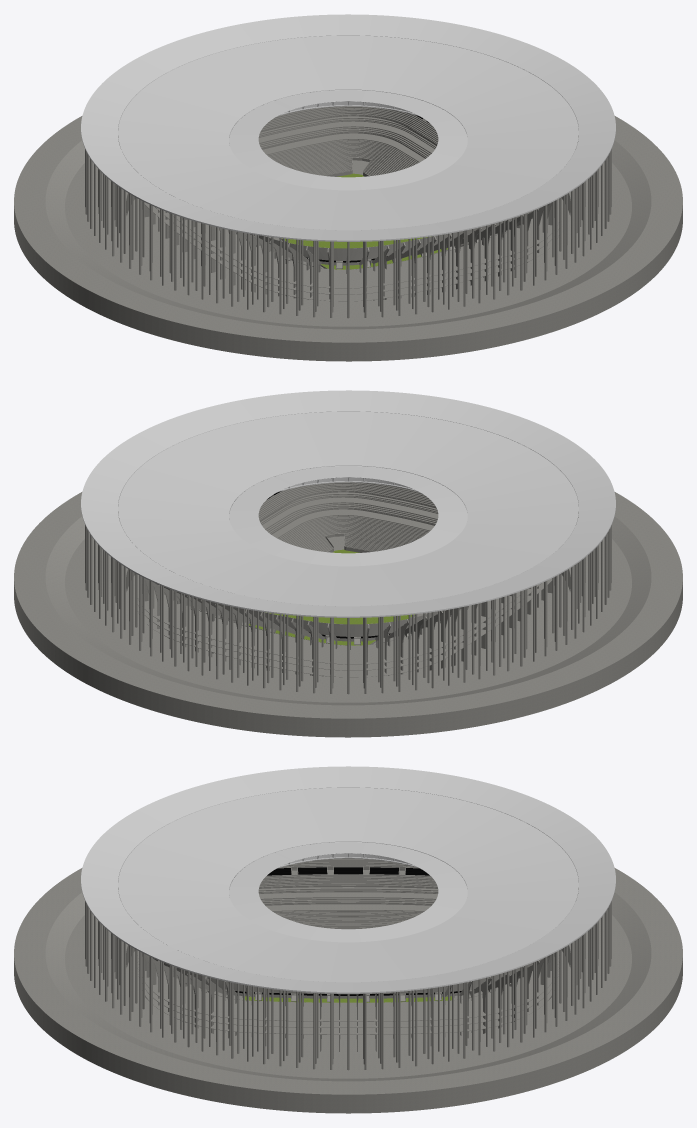
Rendered from Estadio_new.glb.
The picture shows the model from 3 angles, top to bottom: view 1: azimuth 30°, elevation 25°; view 2: azimuth 150°, elevation 25°; view 3: azimuth 270°, elevation 25°; orthographic projection.
Visible parts, largest first — view 1: Circle008, Circle006, Circle004, Shape011, Obj_002920, Obj_003187, Object4209, Rectangle001; view 2: Circle008, Circle006, Circle004, Shape011, Obj_002920, Obj_003187, Object4209, Rectangle001; view 3: Circle008, Circle006, Circle004, Shape011, Obj_002920, Obj_003187, Object4209, Rectangle001.
Boxes of the visible parts, left/top/right/bottom form: Circle008: left=14, top=116, right=682, bottom=361; Circle006: left=118, top=35, right=578, bottom=230; Circle004: left=81, top=14, right=615, bottom=241; Shape011: left=142, top=106, right=559, bottom=301; Obj_002920: left=85, top=136, right=611, bottom=318; Obj_003187: left=229, top=90, right=467, bottom=190; Object4209: left=142, top=201, right=554, bottom=300; Rectangle001: left=282, top=173, right=447, bottom=269; Circle008: left=14, top=492, right=682, bottom=737; Circle006: left=118, top=411, right=578, bottom=606; Circle004: left=81, top=390, right=615, bottom=617; Shape011: left=137, top=482, right=554, bottom=677; Obj_002920: left=85, top=512, right=611, bottom=694; Obj_003187: left=229, top=466, right=467, bottom=566; Object4209: left=142, top=577, right=554, bottom=676; Rectangle001: left=249, top=549, right=414, bottom=645; Circle008: left=14, top=868, right=682, bottom=1113; Circle006: left=118, top=787, right=578, bottom=982; Circle004: left=81, top=766, right=615, bottom=993; Shape011: left=137, top=858, right=559, bottom=1034; Obj_002920: left=85, top=888, right=611, bottom=1070; Obj_003187: left=229, top=842, right=467, bottom=942; Object4209: left=142, top=953, right=554, bottom=1051; Rectangle001: left=245, top=996, right=451, bottom=1002.
Size of the model in its own units: 386 by 66.39 by 386.
Materials: 3 (2 with a texture image).
